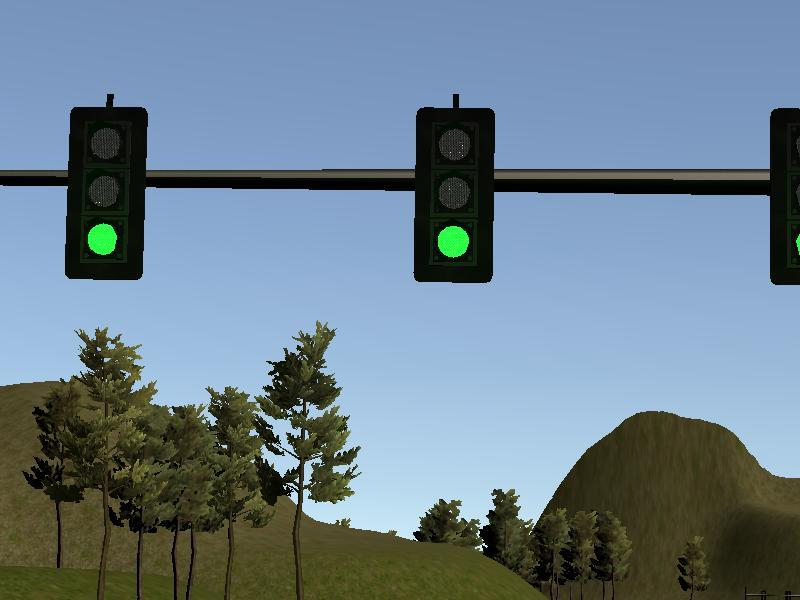Green: (417, 108, 492, 279), (70, 111, 142, 274)
